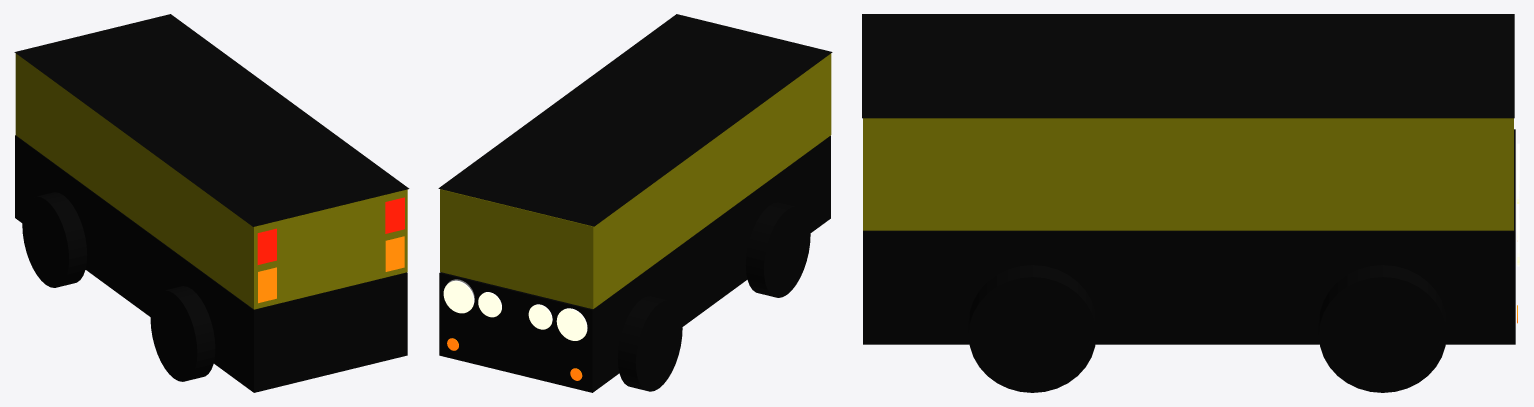
Rendered from new micro 1.fbx.
3 renders of one model, left to right at view 1: azimuth 30°, elevation 25°; view 2: azimuth 150°, elevation 25°; view 3: azimuth 270°, elevation 25°, orthographic. The views are drawn at different scales.
Parts seen in each view (by area): view 1: Plane.047, Cube.015, Cube.014, Circle.077, Circle.075, Plane.043, Plane.053, Plane.054, Plane.046; view 2: Plane.047, Cube.015, Cube.014, Circle.075, Circle.077, Circle.070, Circle.078, Circle.093, Circle.092; view 3: Cube.015, Plane.047, Cube.014, Circle.076, Circle.074.
Boxes of the visible parts, left/top/right/bottom form: Plane.047: left=14, top=14, right=409, bottom=226; Cube.015: left=15, top=53, right=407, bottom=309; Cube.014: left=15, top=135, right=407, bottom=392; Circle.077: left=150, top=286, right=215, bottom=381; Circle.075: left=22, top=192, right=87, bottom=287; Plane.043: left=257, top=228, right=276, bottom=264; Plane.053: left=385, top=197, right=404, bottom=233; Plane.054: left=385, top=236, right=404, bottom=271; Plane.046: left=258, top=267, right=276, bottom=303; Plane.047: left=438, top=14, right=832, bottom=226; Cube.015: left=440, top=53, right=831, bottom=308; Cube.014: left=439, top=135, right=830, bottom=392; Circle.075: left=618, top=296, right=682, bottom=391; Circle.077: left=746, top=202, right=810, bottom=297; Circle.070: left=443, top=280, right=474, bottom=313; Circle.078: left=556, top=308, right=587, bottom=340; Circle.093: left=528, top=304, right=552, bottom=329; Circle.092: left=478, top=292, right=501, bottom=317; Cube.015: left=863, top=118, right=1513, bottom=230; Plane.047: left=862, top=14, right=1514, bottom=118; Cube.014: left=863, top=129, right=1515, bottom=344; Circle.076: left=968, top=265, right=1096, bottom=392; Circle.074: left=1318, top=265, right=1446, bottom=392.
Size of the model in its own units: 247 by 241 by 544.
